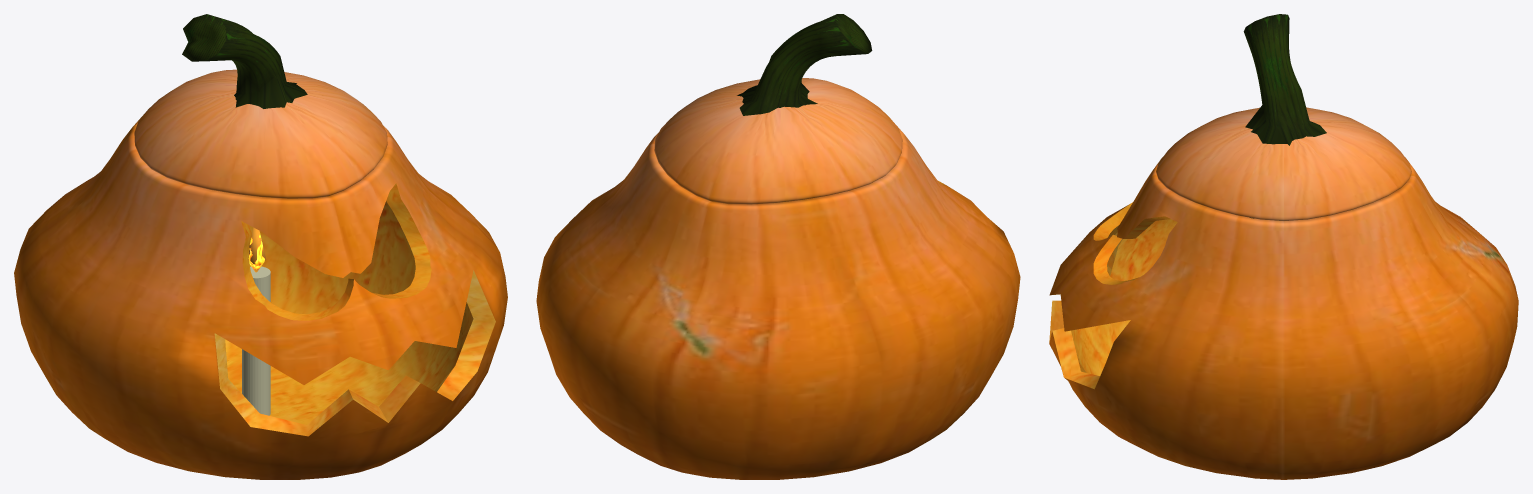
File: pumpkin3_candel.glb
3 views of the same model, side by side, from view 1: azimuth 30°, elevation 25°; view 2: azimuth 150°, elevation 25°; view 3: azimuth 270°, elevation 25° (orthographic). The views are drawn at different scales.
Visible parts, largest first — view 1: frontL_pumpkin_body; view 2: frontL_pumpkin_body; view 3: frontL_pumpkin_body.
Part boxes in pixels (x1,y1,x2,y2): frontL_pumpkin_body: [14, 14, 507, 479]; frontL_pumpkin_body: [536, 14, 1020, 479]; frontL_pumpkin_body: [1049, 14, 1518, 479].
Bounding box in the file's own units: 10.12 × 9.82 × 10.65.
Materials: 6 (5 with a texture image).
